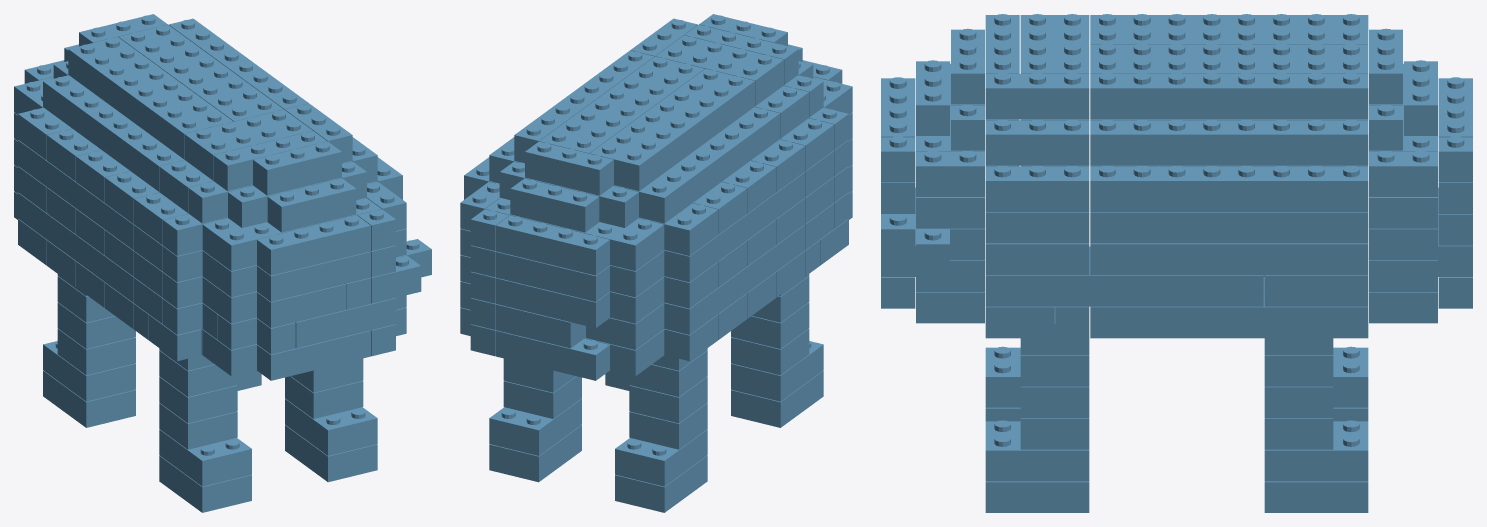
File: collab_car-新微调_L5_03_raw.glb
The picture shows the model from 3 angles, left to right: view 1: azimuth 30°, elevation 25°; view 2: azimuth 150°, elevation 25°; view 3: azimuth 270°, elevation 25°; orthographic projection. The views are drawn at different scales.
Bounding box in the file's own units: 8.98 × 13.13 × 16.98.
